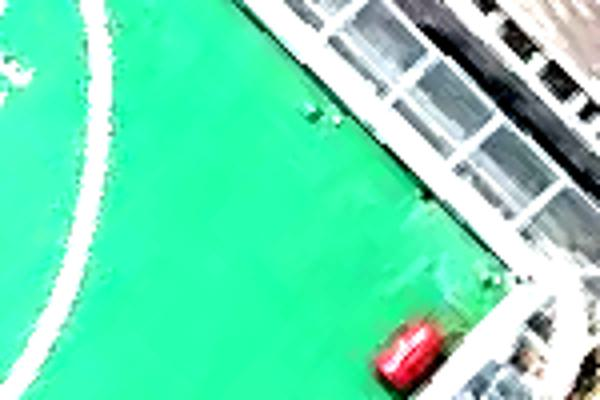Apron: (1, 2, 127, 399)
